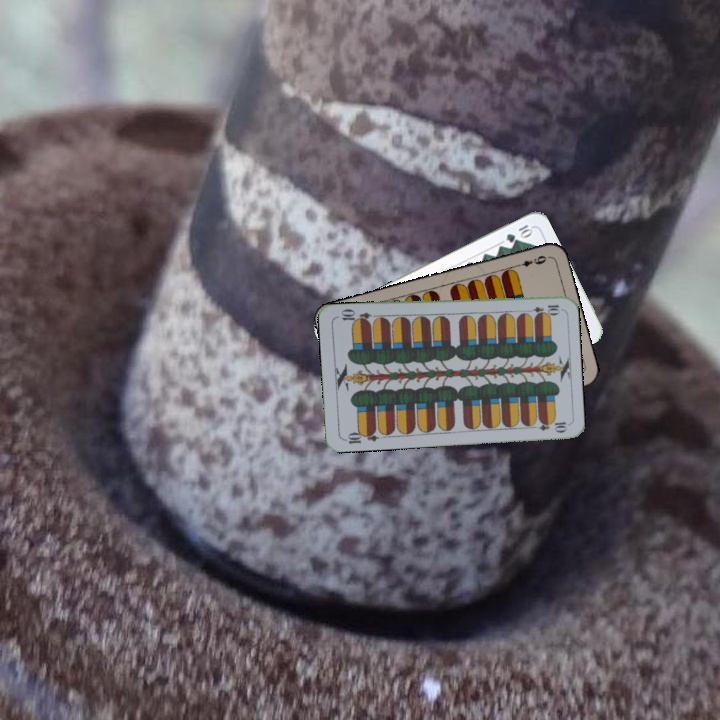E10: (340, 426, 380, 446), (522, 300, 562, 316)
E9: (511, 251, 549, 270)
G10: (502, 220, 535, 245)
